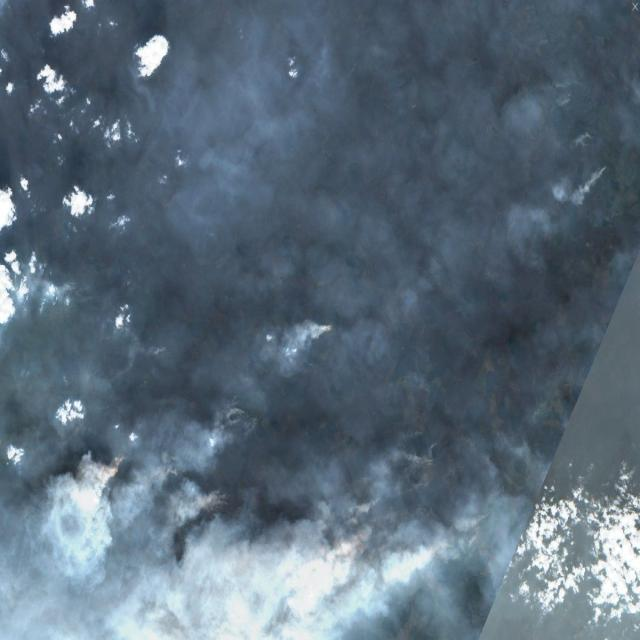fire: (102, 379, 526, 569)
